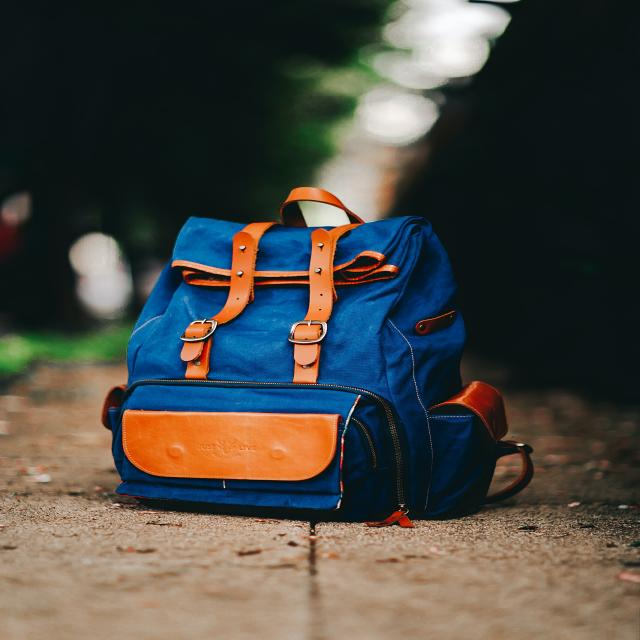backpack: (92, 185, 536, 523)
